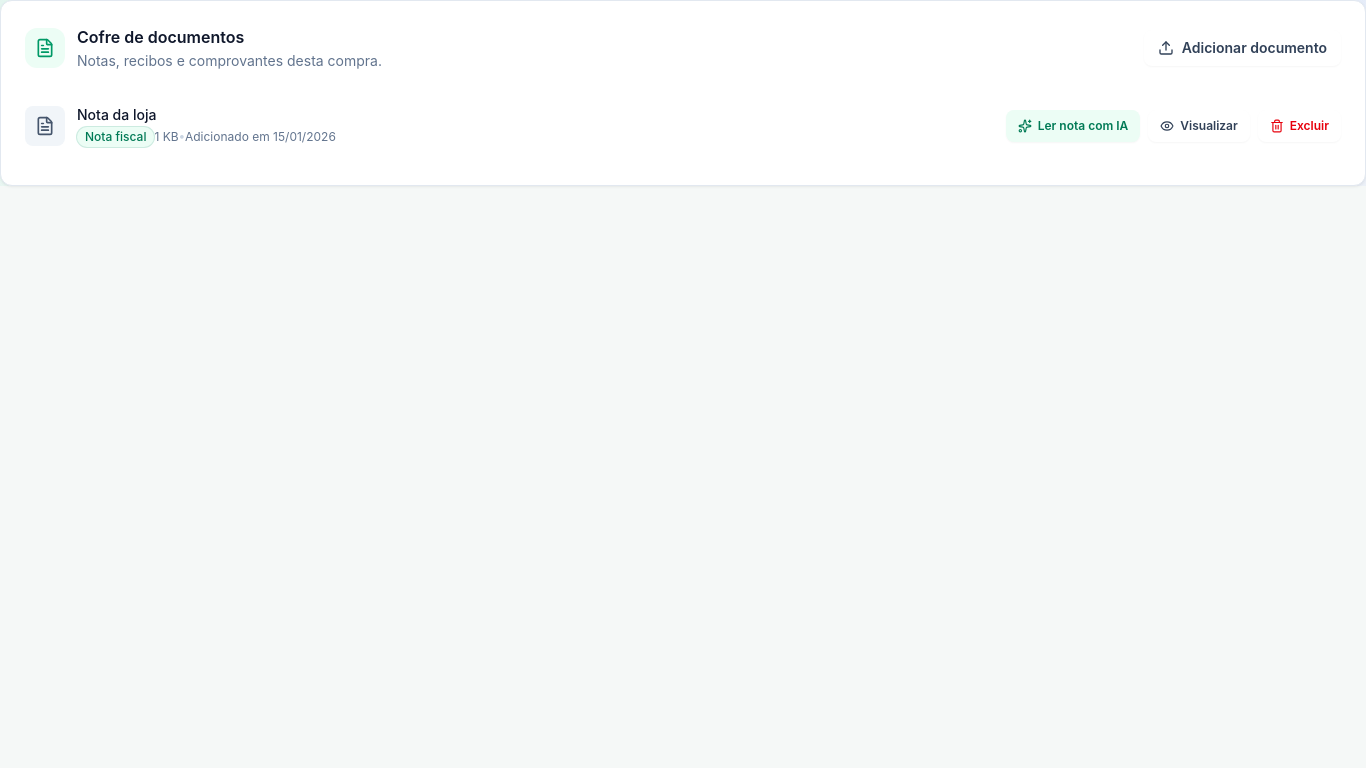
PurchaseDocumentsSection — confirmação de exclusão de documento › erro da API mantém o tratamento atual (mensagem amigável) e o modal aberto
Expected: the text "Nota da loja" is shown, 77,106 -> 156,123
Click the button "Excluir" at (1299, 126), box 1258,110 -> 1341,142
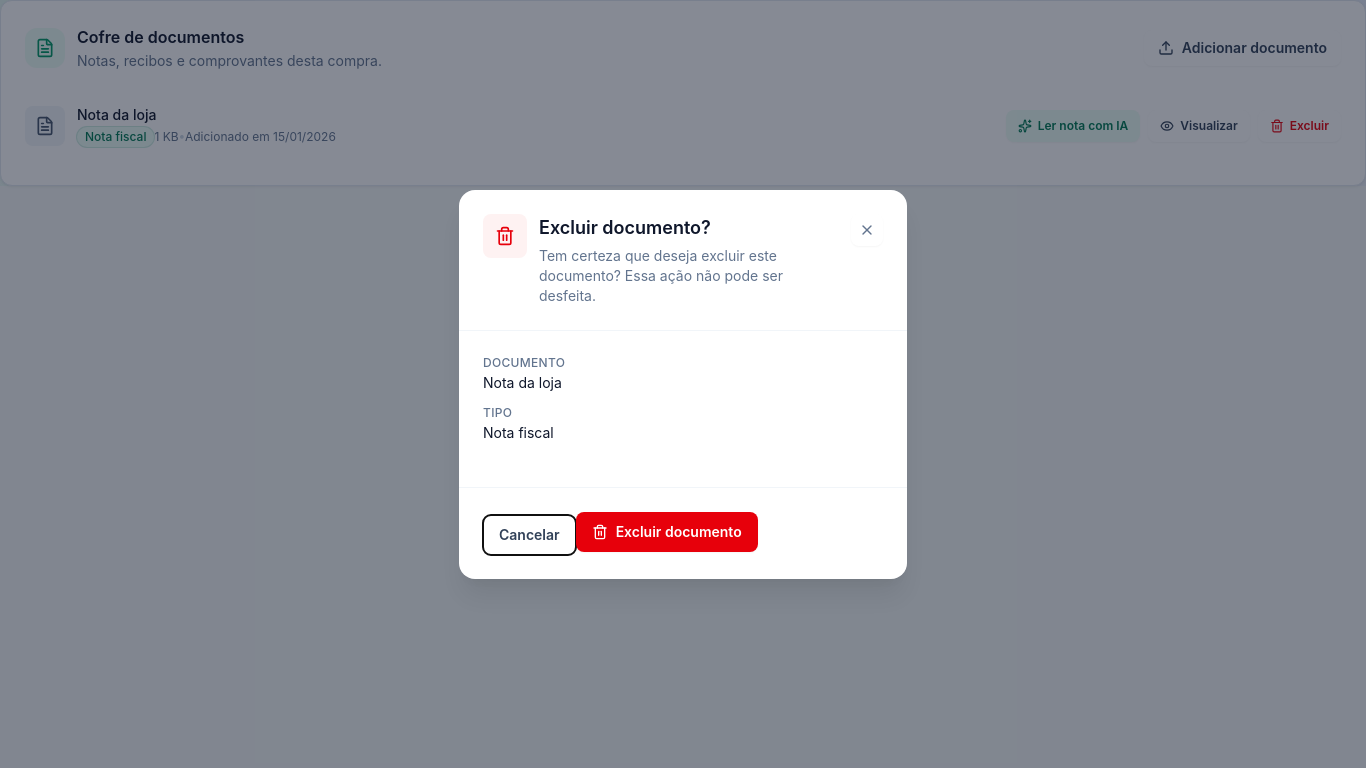
Expected: the dialog is shown
Click the button "Excluir documento" at (667, 532), box 576,512 -> 758,552
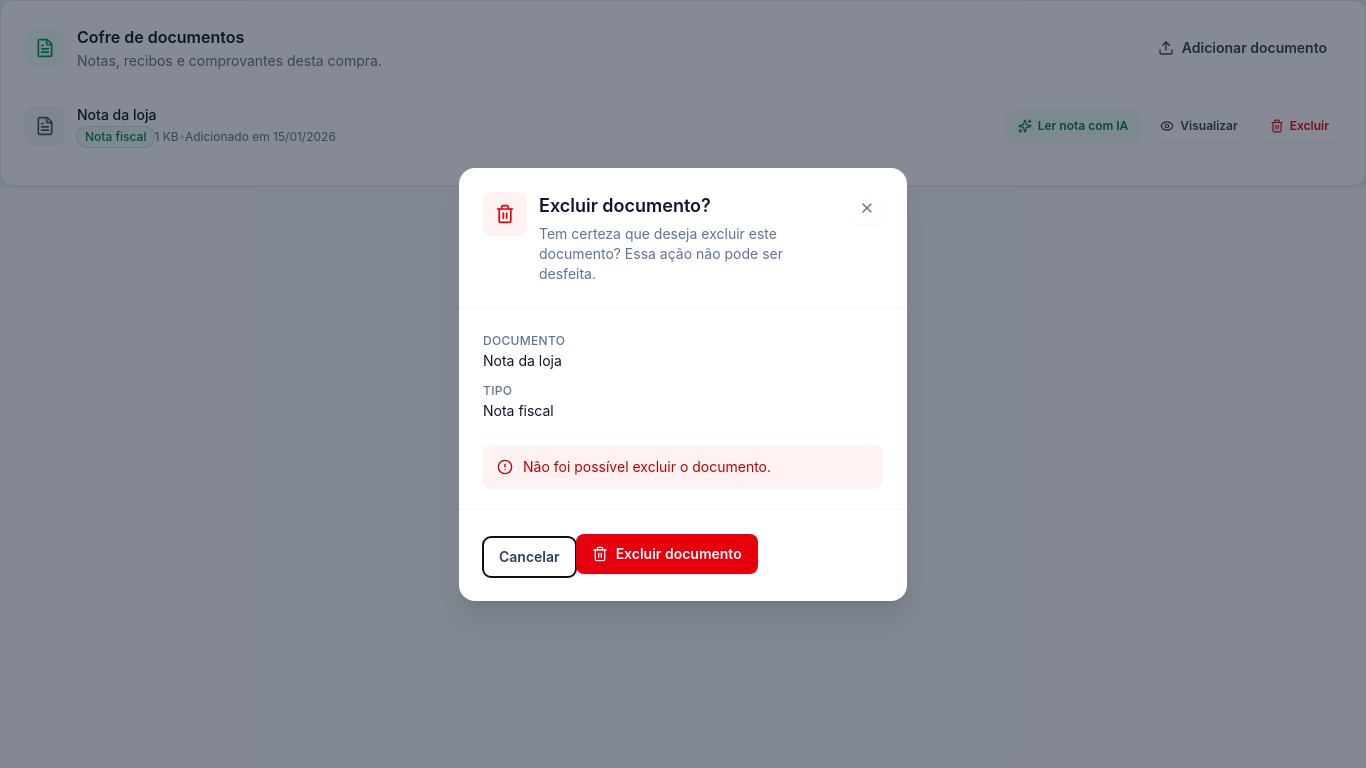
Expected: the 1st text "Nota da loja" is shown, 77,106 -> 156,123
Expected: the dialog is shown
Expected: the text "Não foi possível excluir o documento." is shown, 523,456 -> 771,476
